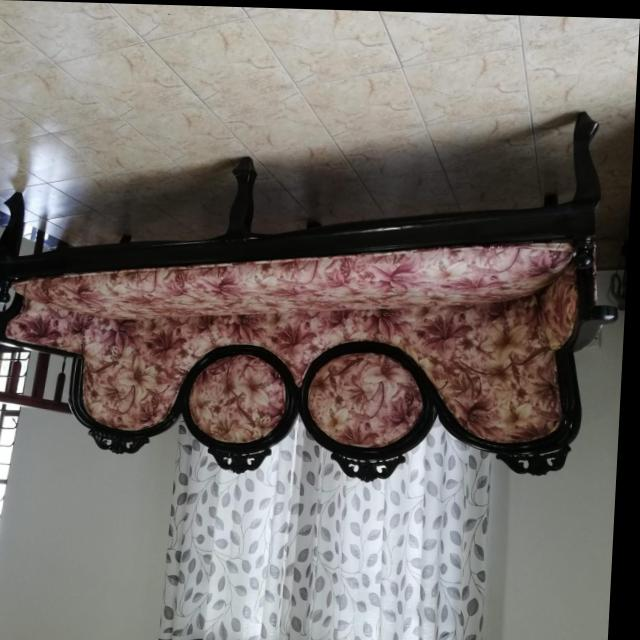Sofa: (0, 98, 632, 485)
